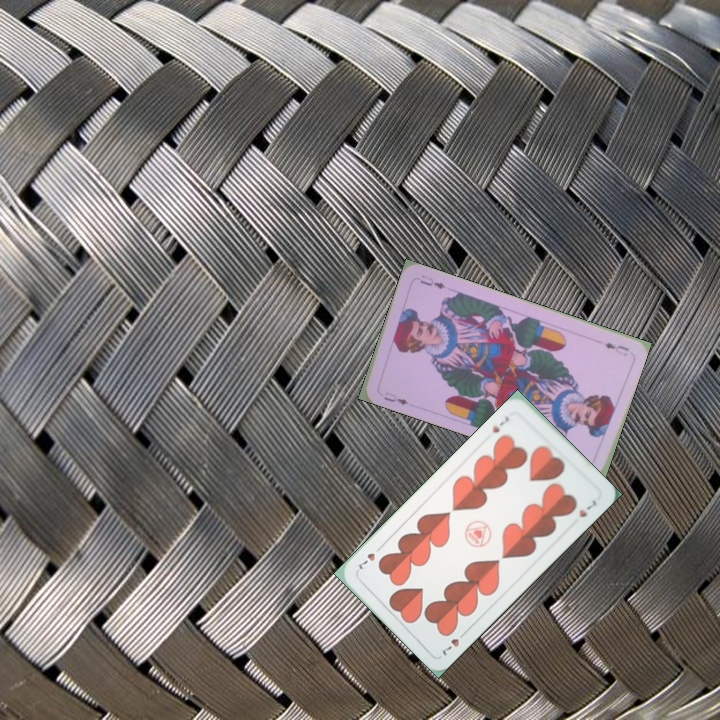EU: (600, 338, 632, 358), (380, 388, 411, 407)
H7: (438, 627, 469, 659), (488, 412, 512, 435)
